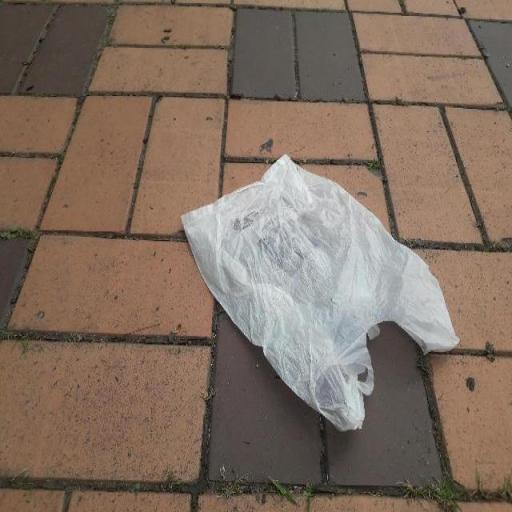plastic-bag: (183, 154, 462, 440)
